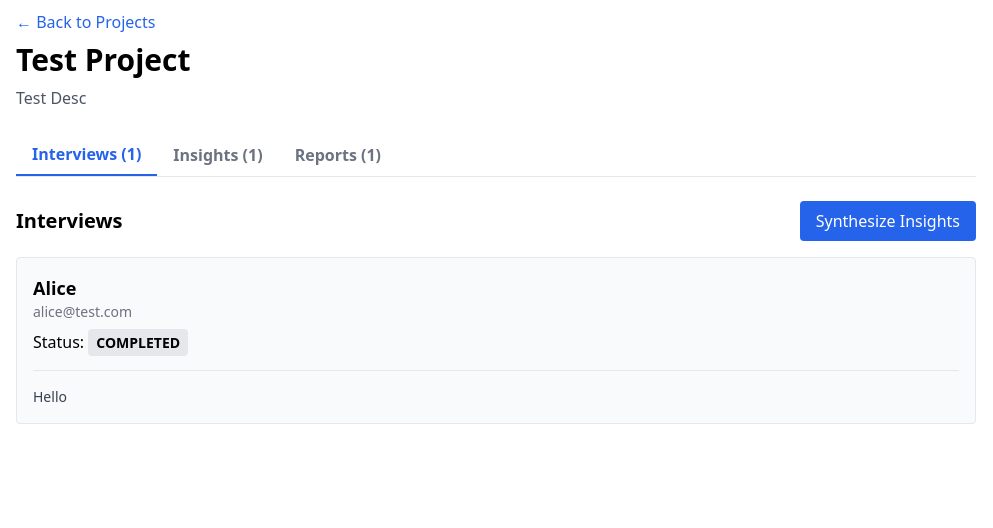
Project Details Page › switches to insights tab and handles synthesis
Expected: the button "Interviews (1)" is shown, [16, 134, 157, 176]
Click the button "Synthesize Insights" at (888, 221), box [800, 201, 976, 241]
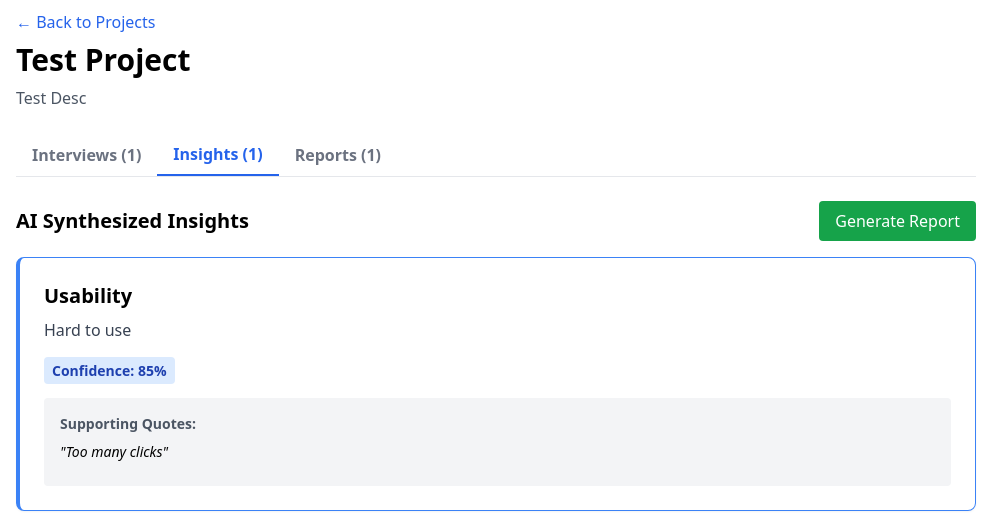
Expected: the heading "Usability" is shown, [44, 282, 132, 309]
Expected: the text "Hard to use" is shown, [44, 319, 131, 341]
Expected: the text "Confidence: 85%" is shown, [44, 357, 175, 384]
